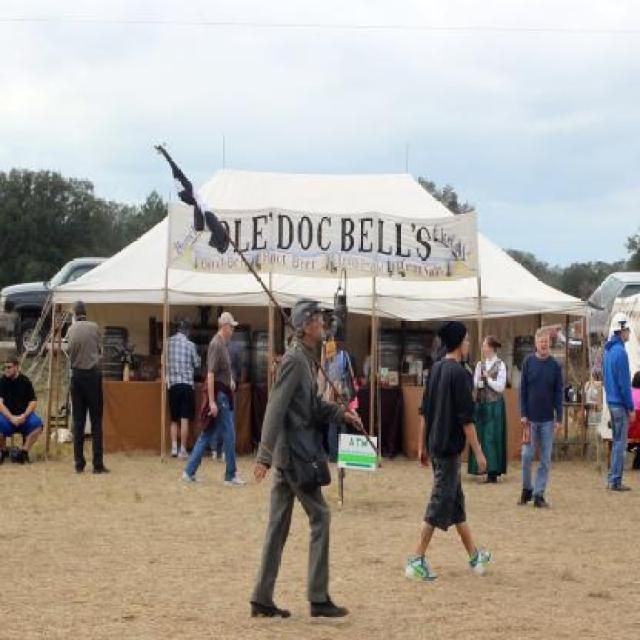Person: (250, 296, 352, 618), (404, 319, 493, 581), (182, 311, 246, 486), (522, 320, 569, 522), (63, 300, 111, 474), (466, 334, 511, 484), (602, 310, 636, 493), (159, 318, 201, 454), (0, 356, 45, 466), (321, 342, 353, 466), (628, 367, 640, 451), (582, 367, 601, 401)
